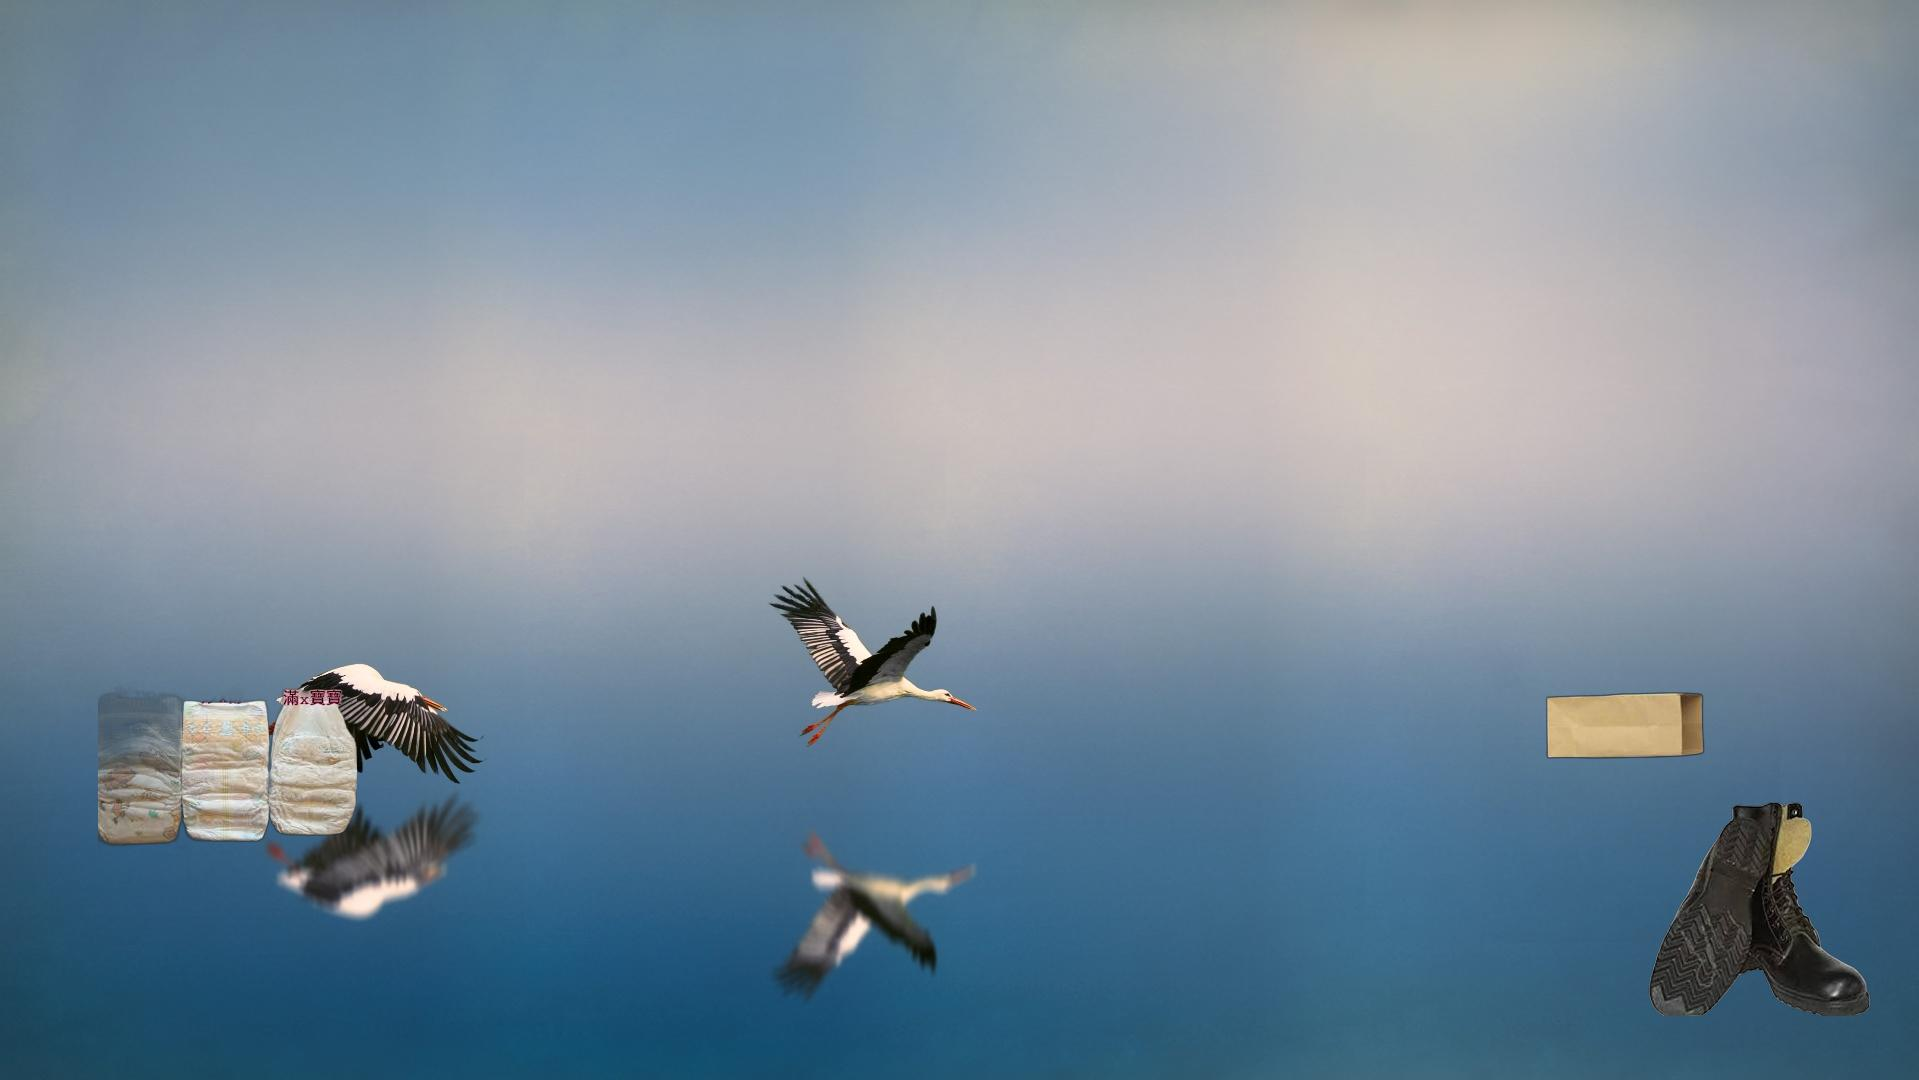paper-bag: (1480, 642, 1781, 942)
shoes: (1646, 802, 1877, 1015)
trash: (98, 657, 357, 851)
